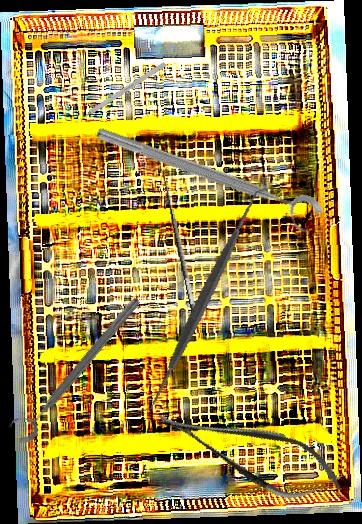Fixation Ring: (88, 120, 327, 238), (3, 286, 145, 449)
Hook Surgical: (148, 165, 199, 316), (72, 61, 167, 126)
Micro Scissor: (147, 386, 352, 518)
Spatula Surgical: (92, 186, 317, 413)
